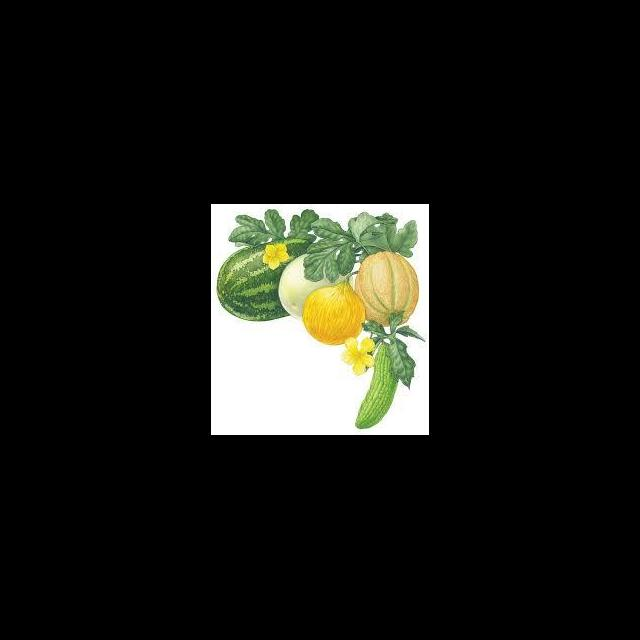watermelon: (216, 238, 313, 322)
